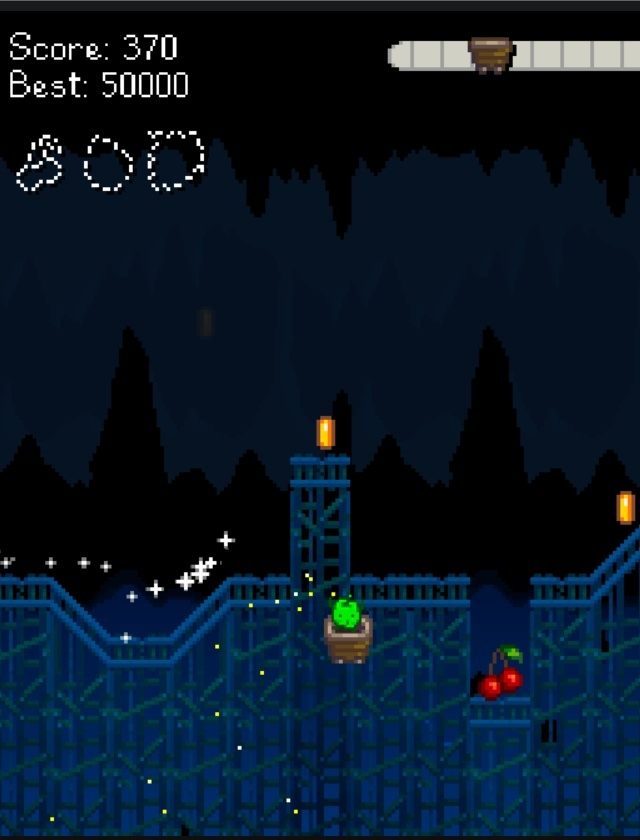cherry: (477, 645, 523, 700)
coins: (316, 416, 334, 449), (617, 491, 635, 524)
tracks: (0, 575, 199, 666), (531, 527, 639, 605), (187, 575, 293, 628), (353, 576, 468, 606), (471, 698, 530, 729), (291, 476, 349, 488), (292, 458, 313, 466), (326, 459, 348, 466), (315, 459, 321, 466)
